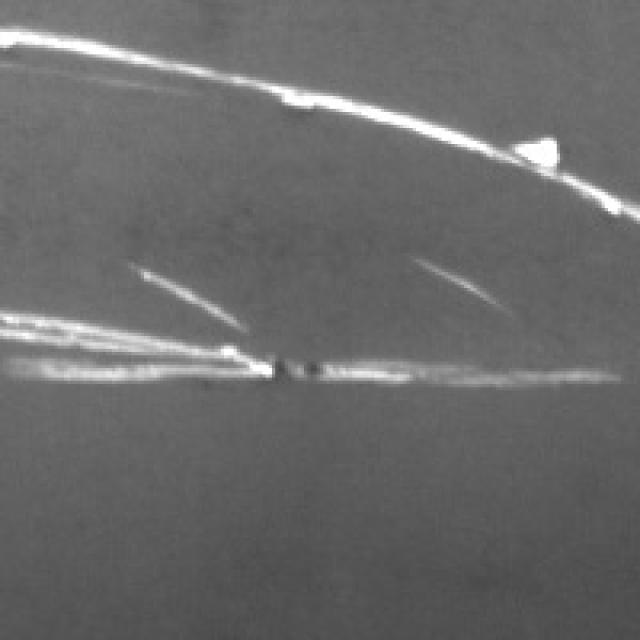scratches: (0, 19, 634, 218), (4, 253, 406, 381), (0, 342, 618, 390)
